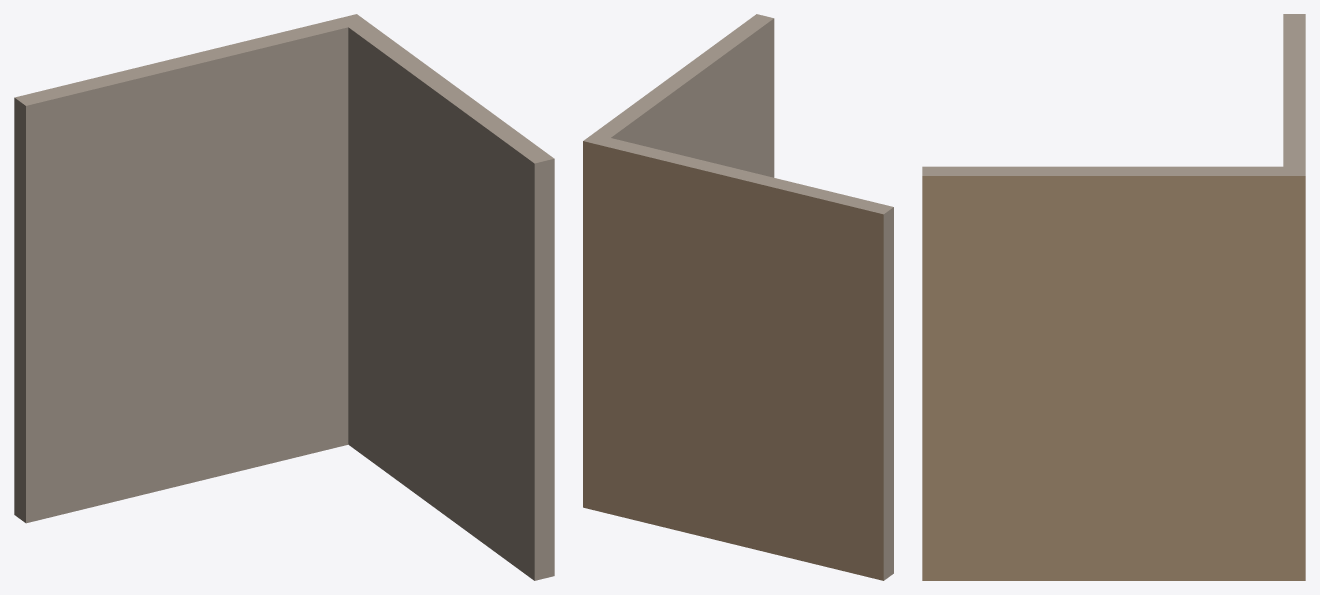
Rendered from Wall2_C4_06.fbx.
3 renders of one model, left to right at view 1: azimuth 30°, elevation 25°; view 2: azimuth 150°, elevation 25°; view 3: azimuth 270°, elevation 25°, orthographic. The views are drawn at different scales.
Parts seen in each view (by area): view 1: Wall2_C4_06; view 2: Wall2_C4_06; view 3: Wall2_C4_06.
Part boxes in pixels (<box>): Wall2_C4_06: <box>14,14,554,580</box>; Wall2_C4_06: <box>583,14,893,580</box>; Wall2_C4_06: <box>922,14,1305,580</box>.
Bounding box in the file's own units: 258 × 300 × 258.
